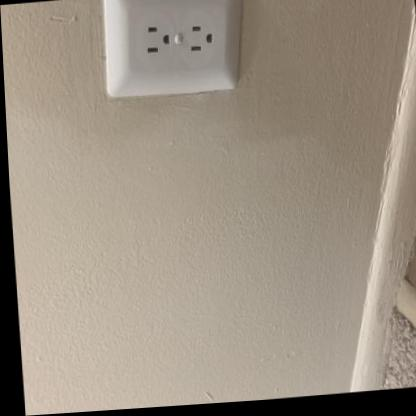OUTLET: (96, 0, 254, 100)
